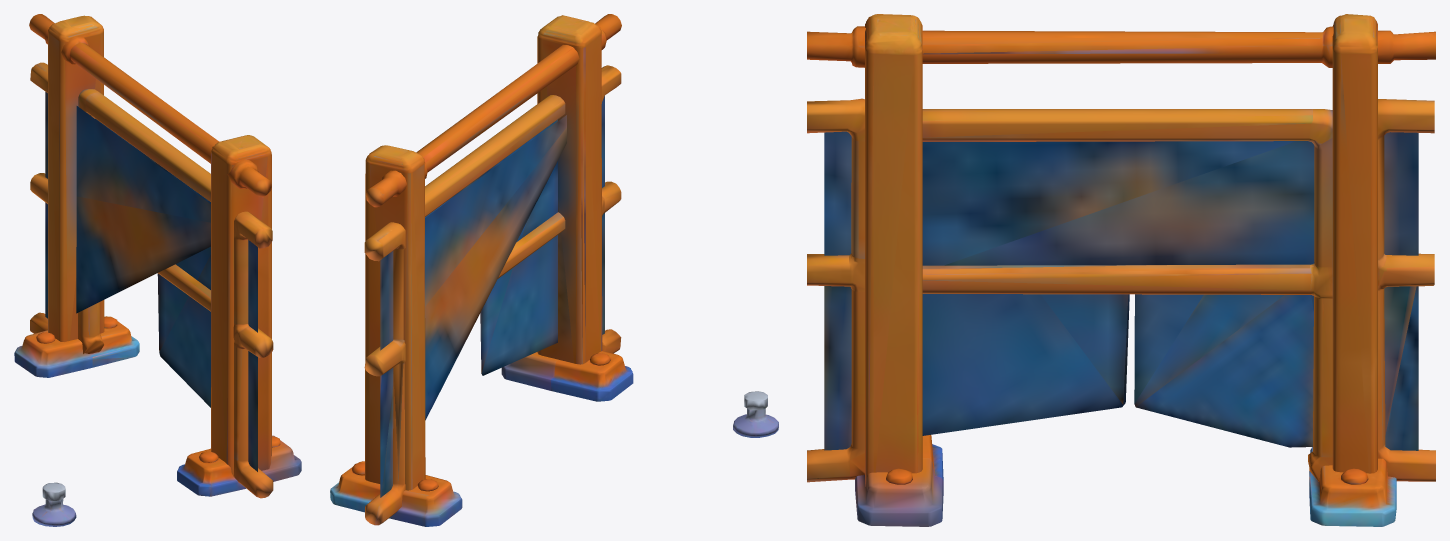
The model's file is fence.glb.
3 renders of one model, left to right at view 1: azimuth 30°, elevation 25°; view 2: azimuth 150°, elevation 25°; view 3: azimuth 270°, elevation 25°, orthographic. The views are drawn at different scales.
Parts seen in each view (by area): view 1: tripo_node_3ca4f0a6-cd85-459c-bf82-69ccbd02621b; view 2: tripo_node_3ca4f0a6-cd85-459c-bf82-69ccbd02621b; view 3: tripo_node_3ca4f0a6-cd85-459c-bf82-69ccbd02621b.
Part boxes in pixels (<box>): tripo_node_3ca4f0a6-cd85-459c-bf82-69ccbd02621b: <box>14,14,301,526</box>; tripo_node_3ca4f0a6-cd85-459c-bf82-69ccbd02621b: <box>330,14,778,526</box>; tripo_node_3ca4f0a6-cd85-459c-bf82-69ccbd02621b: <box>807,14,1435,526</box>.
Bounding box in the file's own units: 0.6465 × 0.8183 × 0.998.
1 material, 1 textured.
